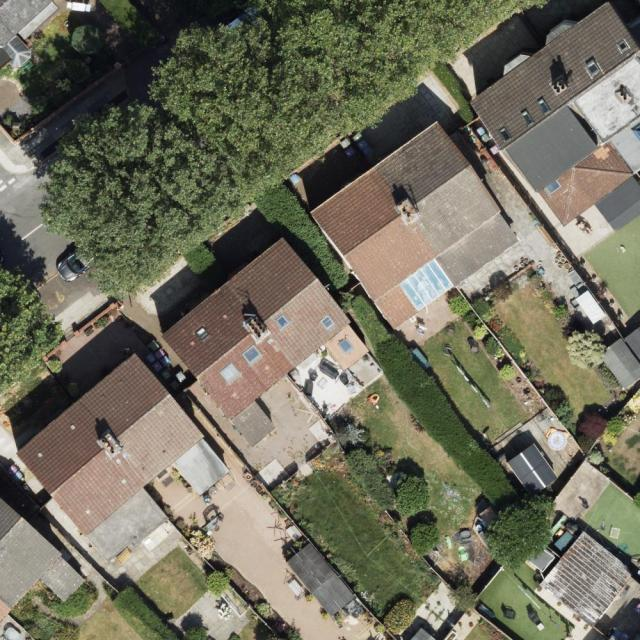roof: (308, 118, 525, 333), (15, 348, 230, 564), (157, 233, 370, 450), (467, 0, 640, 226), (0, 498, 87, 626)
skylight: (397, 257, 455, 315), (580, 57, 603, 86), (219, 363, 244, 387), (241, 342, 264, 366), (533, 94, 555, 117), (517, 106, 536, 129), (543, 177, 563, 195), (194, 322, 212, 341), (613, 37, 630, 56), (496, 126, 513, 144), (318, 313, 335, 330), (339, 336, 354, 353), (275, 313, 290, 330), (629, 121, 640, 143)
